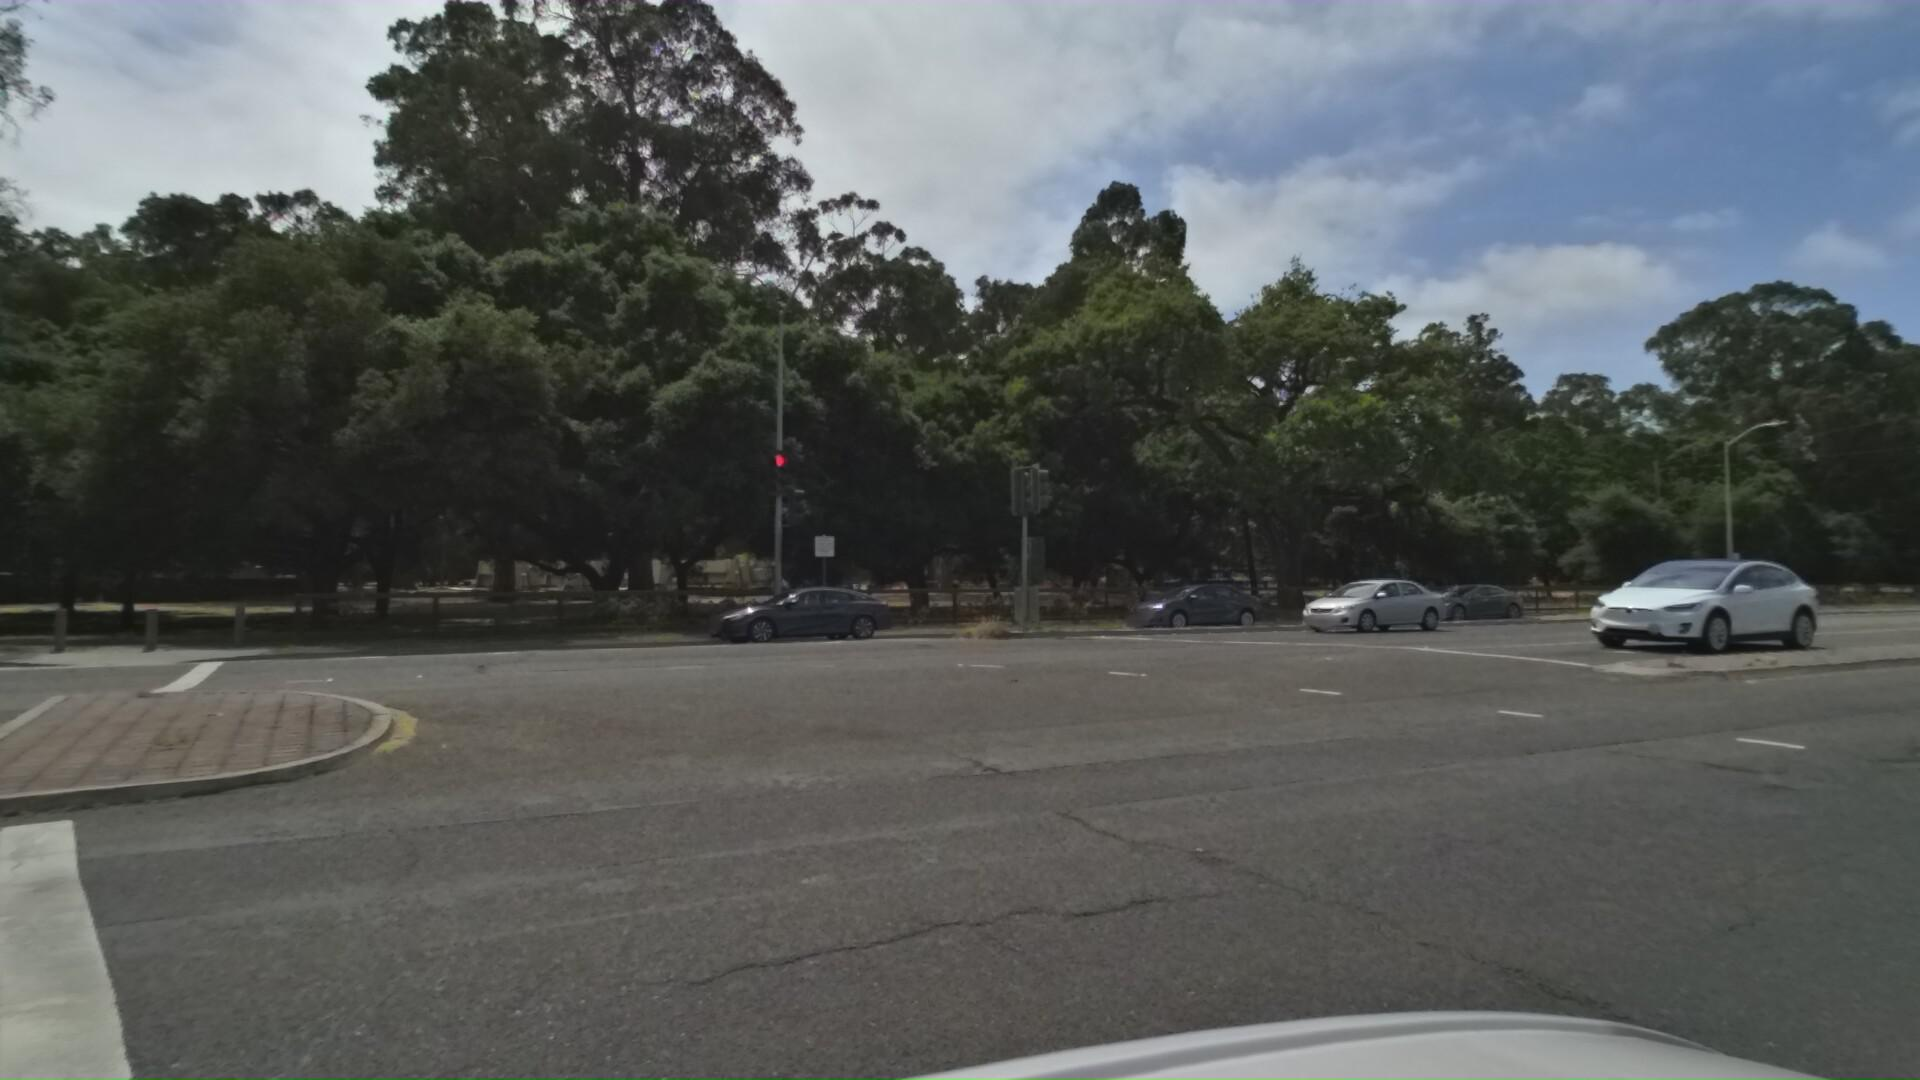car: (1547, 543, 1822, 653), (667, 584, 868, 646), (1269, 567, 1451, 632), (1087, 579, 1241, 628), (1385, 579, 1513, 620), (1905, 575, 1920, 607)
